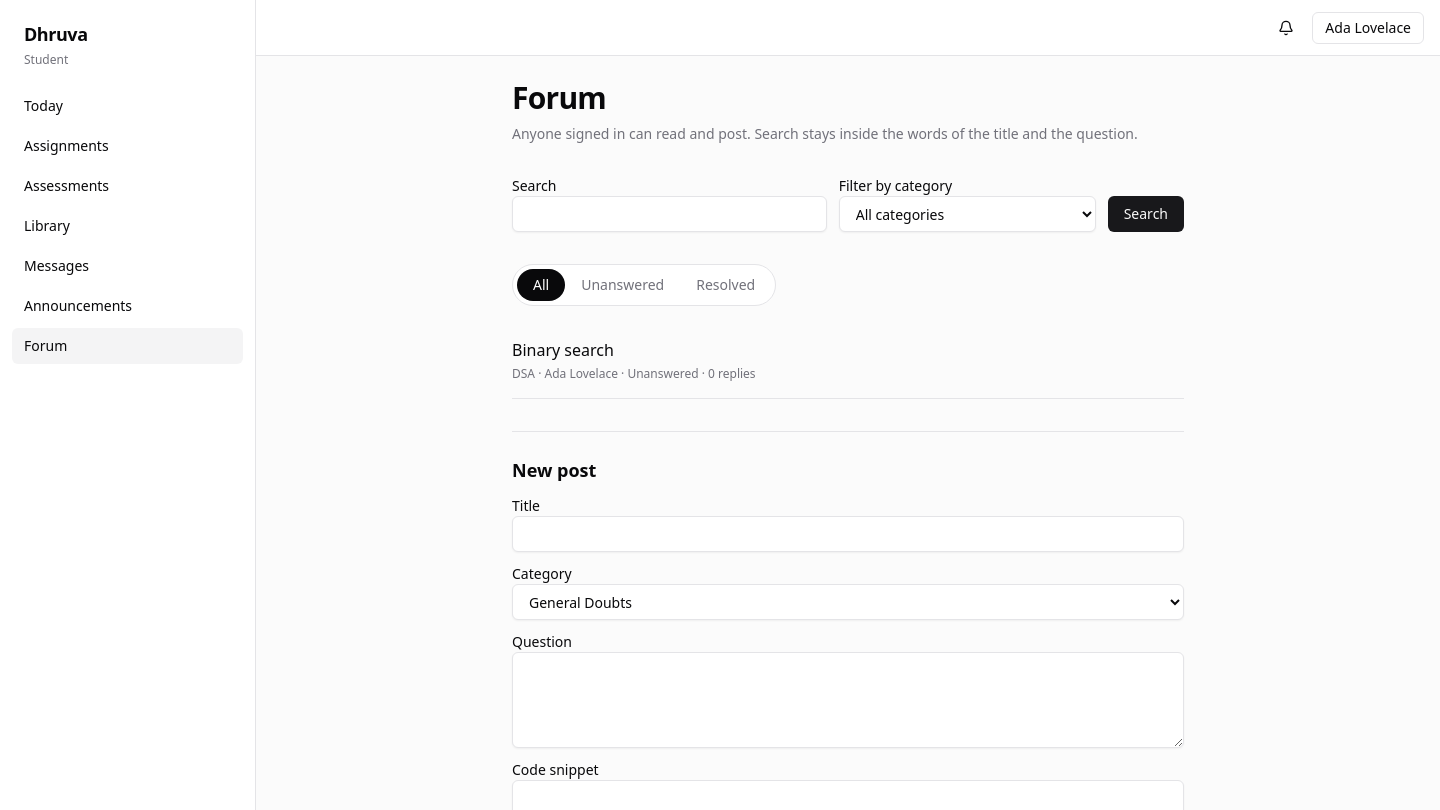
Test case: forum and doubts › filters the forum and posts a new thread
This screenshot has width=1440, height=810.
Expected: the heading "Forum" is shown, 512,77 -> 606,118
Expected: the link "Binary search" is shown, 512,339 -> 614,361
Step 1. Type "Linked lists" into the field labelled "Title" → [848, 534], box 512,516 -> 1184,552
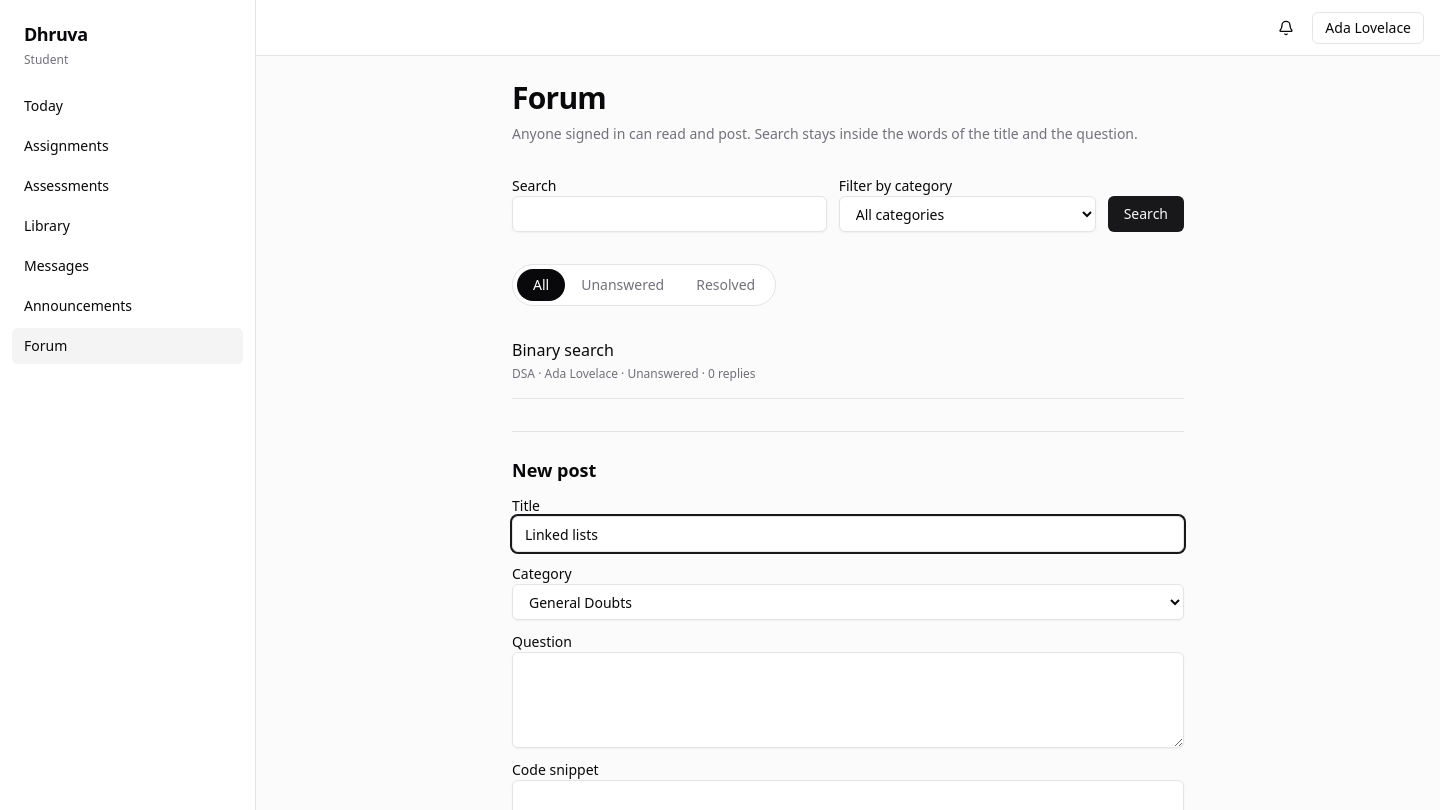
Step 2. Type "Where does the next pointer go?" into the text box labelled "Question" → [848, 700], box 512,652 -> 1184,748
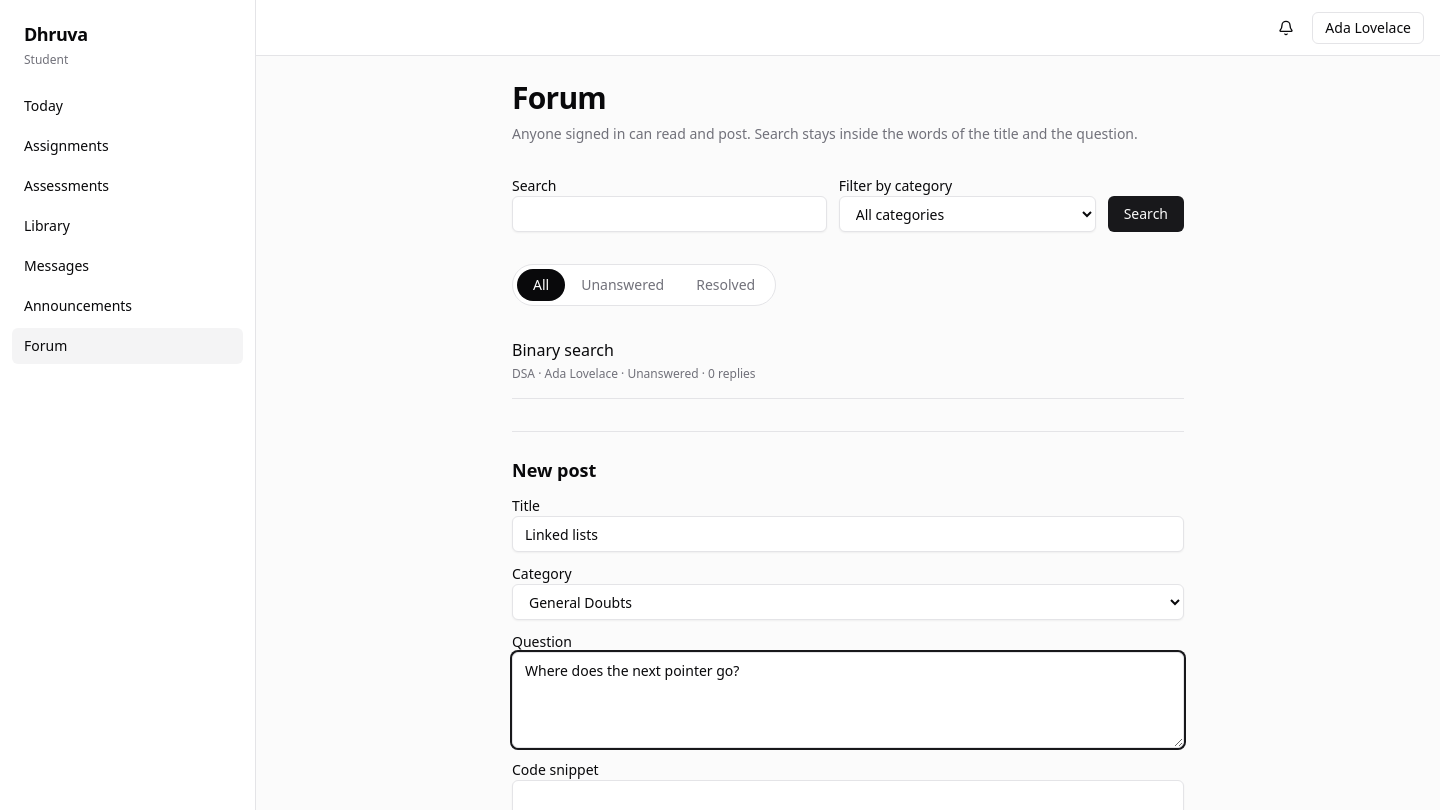
Step 3. Select "DSA" in the dropdown named "Post category" → [848, 602], box 512,584 -> 1184,620
(page scrolled)
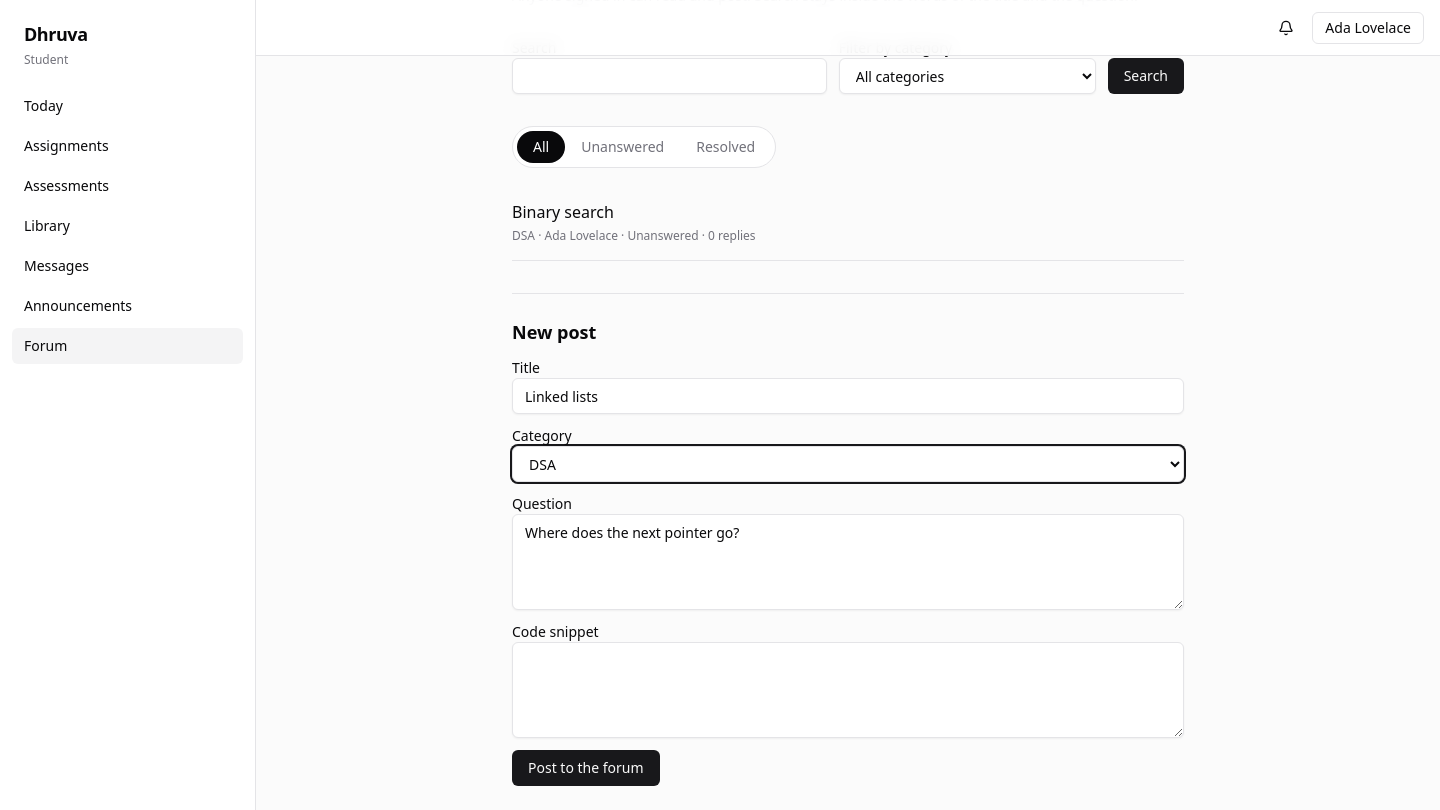
Step 4. Click the button "Post to the forum" → [586, 768], box 512,750 -> 660,786
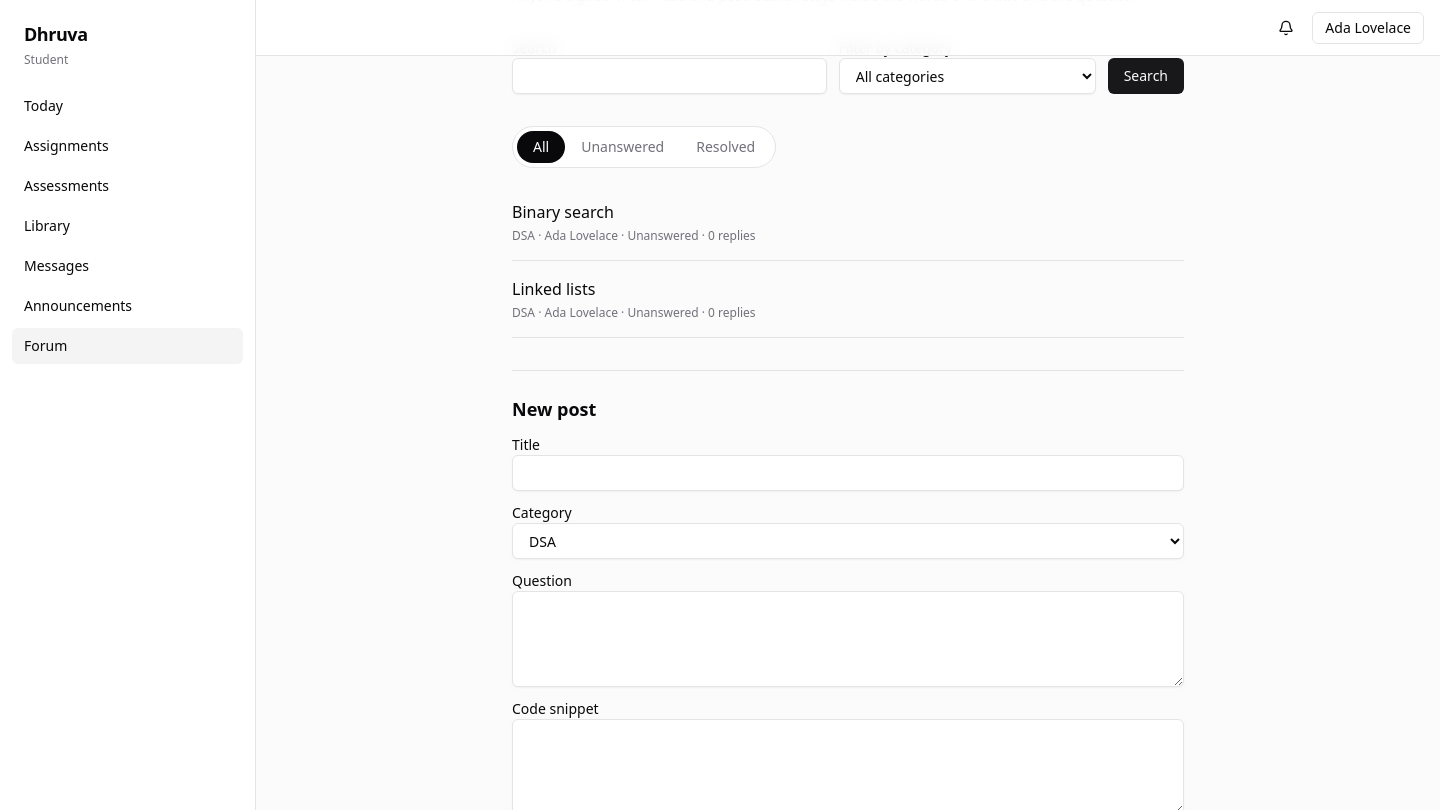
Expected: the link "Linked lists" is shown, 512,278 -> 595,300
Step 5. Click the tab "Resolved" → [726, 147], box 680,131 -> 771,163
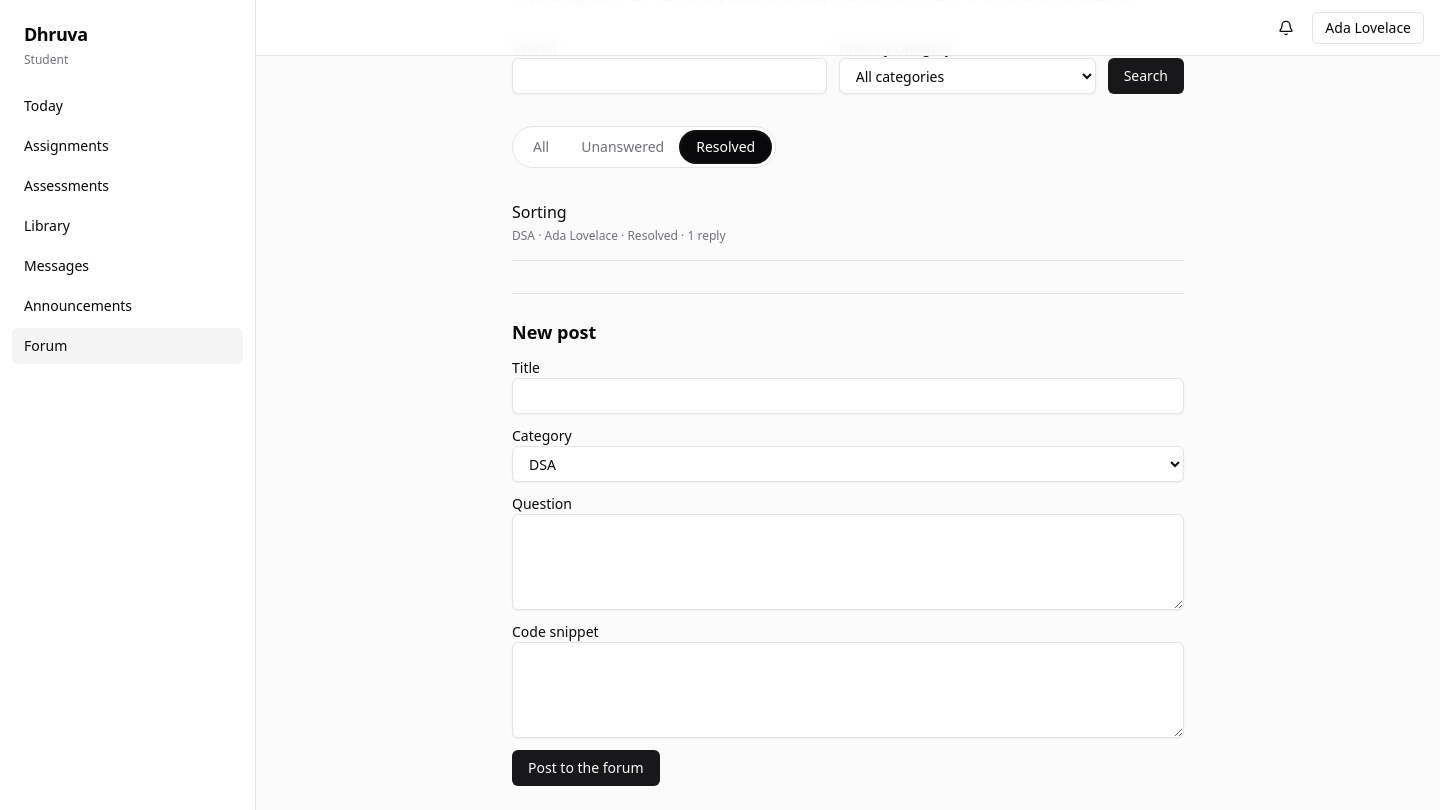
Expected: the link "Sorting" is shown, 512,201 -> 567,223
